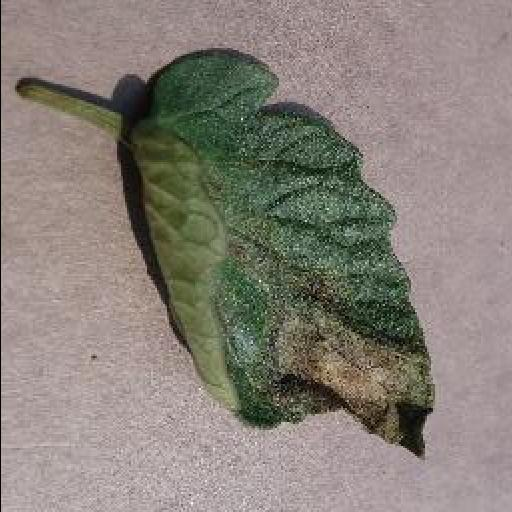disease_tomato: (134, 52, 432, 460)
